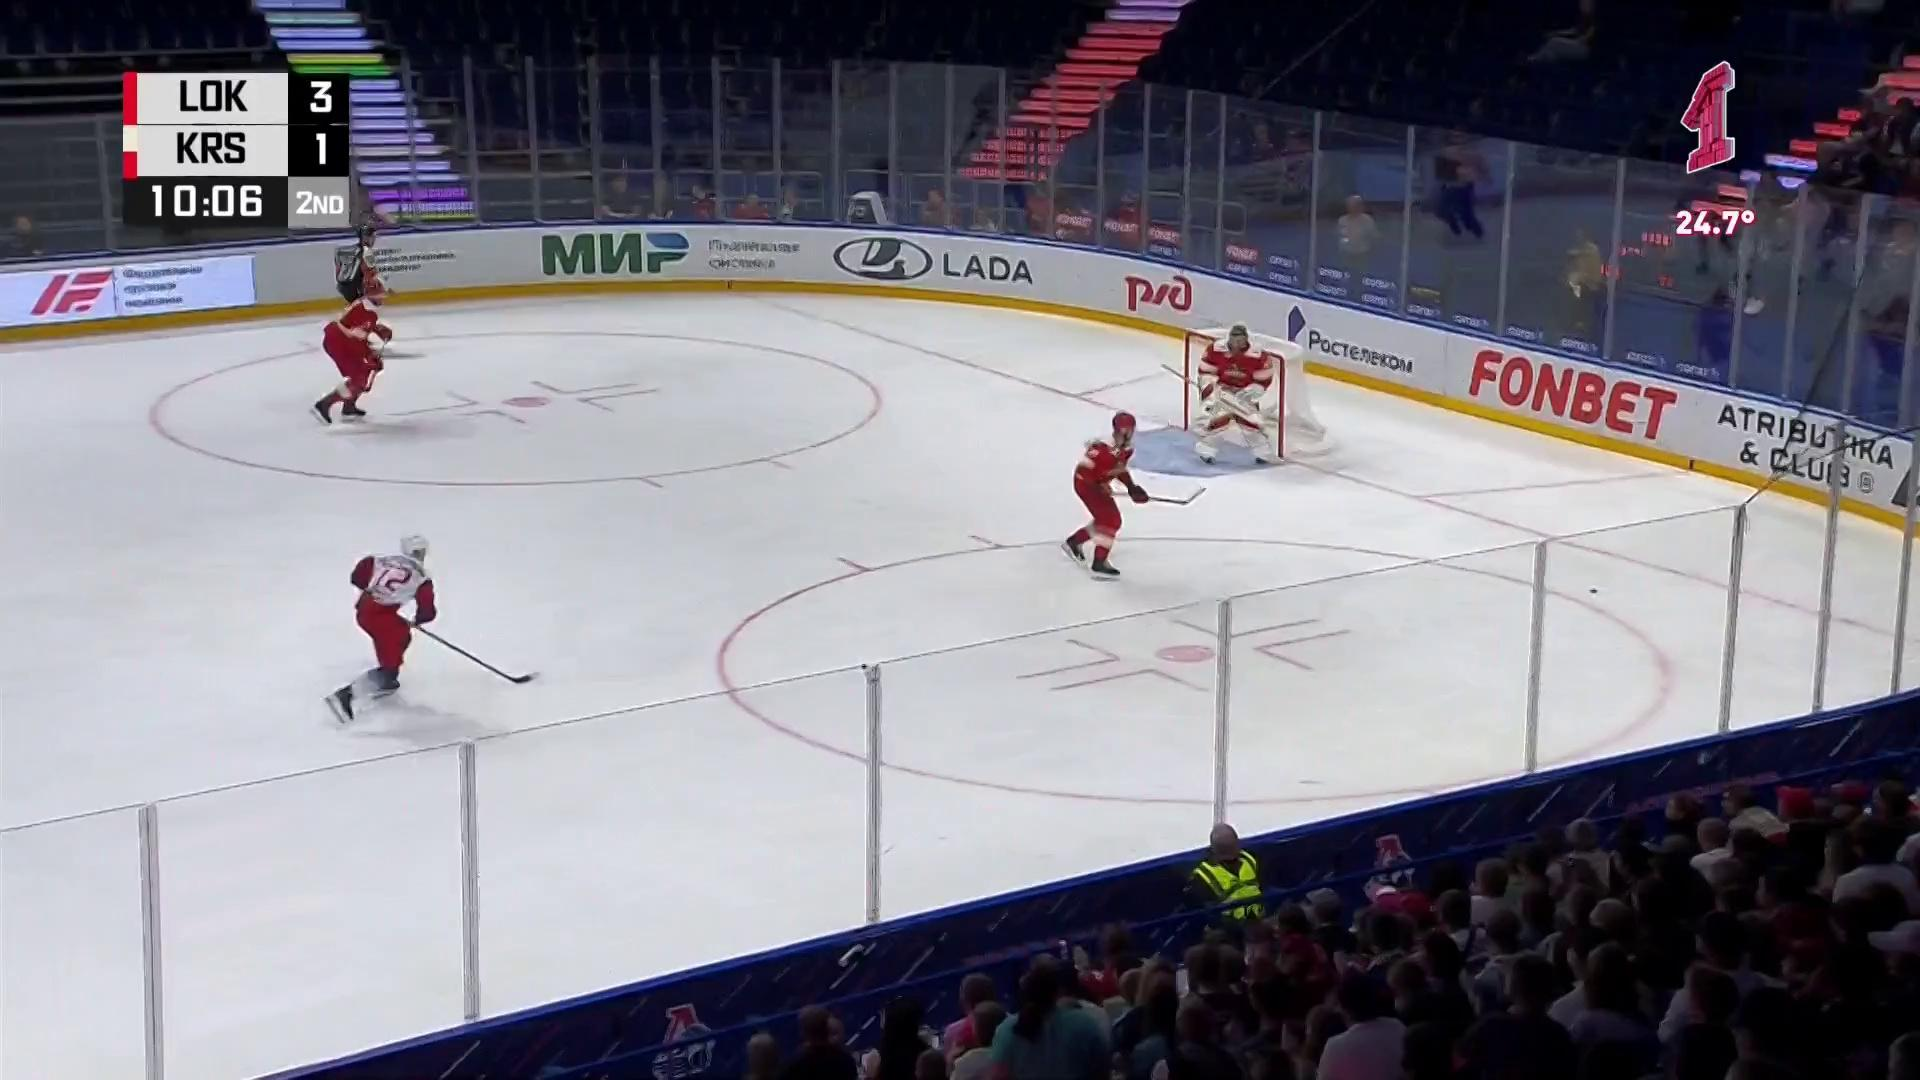ball: (1589, 588, 1598, 595)
